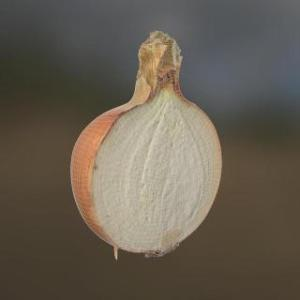onion: (68, 30, 224, 262)
